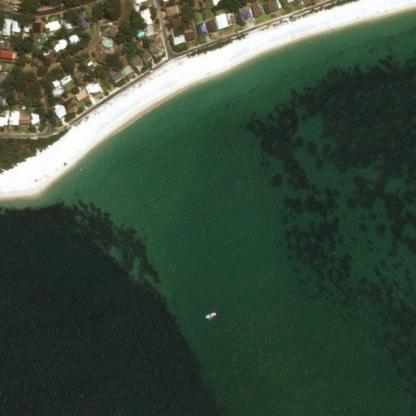ship: (199, 306, 220, 322)
